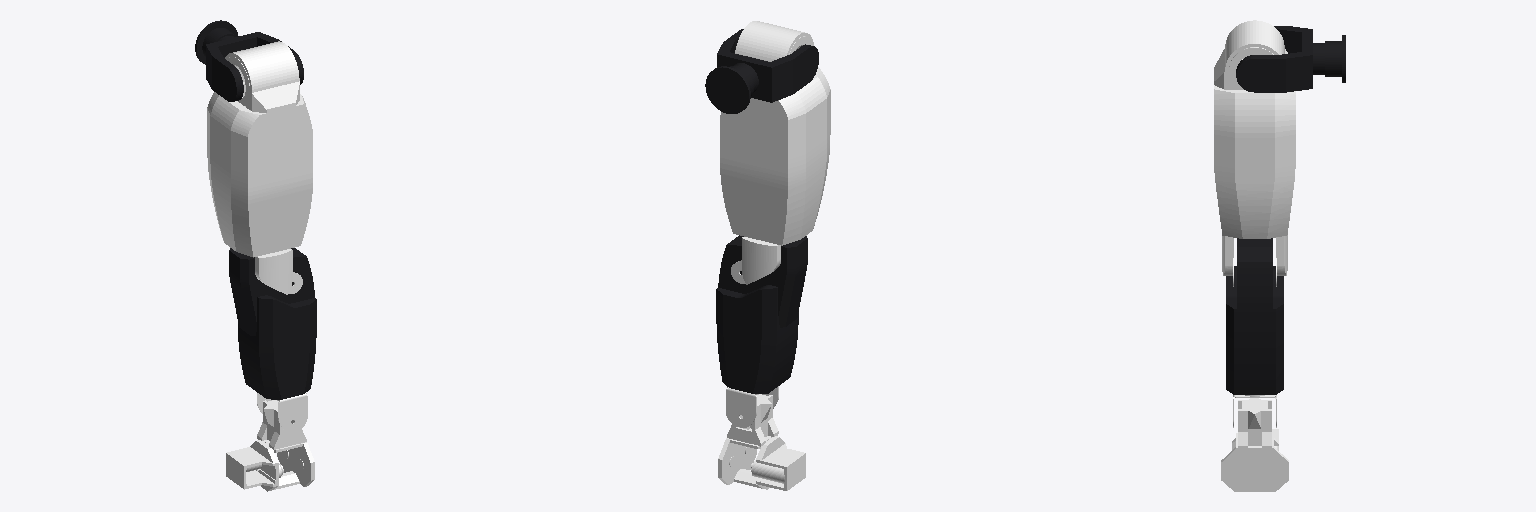
robot.urdf — origin:
<?xml version="1.0" ?>
<!-- =================================================================================== -->
<!-- |    This document was autogenerated by xacro from origin.urdf.xacro              | -->
<!-- |    EDITING THIS FILE BY HAND IS NOT RECOMMENDED                                 | -->
<!-- =================================================================================== -->
<robot name="origin">
  <material name="silver">
    <color rgba="0.700 0.700 0.700 1.000"/>
  </material>
  <material name="grey">
    <color rgba="0.5 0.5 0.5 1.000"/>
  </material>
  <material name="matte_black">
    <color rgba="0.1568 0.1568 0.1686 1.000"/>
  </material>
  <material name="shiny_white">
    <color rgba="1.0 1.0 1.0 1.0"/>
  </material>
  <link name="rviz_world"/>
  <joint name="right_shoulder_y" type="revolute">
    <origin rpy="0 0 0" xyz="0.0001 -0.1099 1.0243"/>
    <parent link="rviz_world"/>
    <child link="right_shoulder_link"/>
    <axis xyz="0.0 -1.0 0.0"/>
    <limit effort="27" lower="-3.141592653589793" upper="3.141592653589793" velocity="0.3"/>
  </joint>
  <link name="right_shoulder_link">
    <inertial>
      <origin rpy="0 0 0" xyz="-6.707197303895294e-05 -0.028863587907437732 6.661338147750939e-16"/>
      <mass value="0.5113716800487312"/>
      <inertia ixx="0.000704" ixy="-1e-06" ixz="-0.0" iyy="0.000542" iyz="-0.0" izz="0.001084"/>
    </inertial>
    <visual>
      <origin rpy="0 0 0" xyz="-0.0001 0.1099 -1.0243"/>
      <geometry>
        <mesh filename="package://origin_description/meshes/right_shoulder_link.stl" scale="0.001 0.001 0.001"/>
      </geometry>
      <material name="matte_black"/>
    </visual>
    <collision>
      <origin rpy="0 0 0" xyz="-0.0001 0.1099 -1.0243"/>
      <geometry>
        <mesh filename="package://origin_description/meshes/right_shoulder_link.stl" scale="0.001 0.001 0.001"/>
      </geometry>
    </collision>
  </link>
  <joint name="right_shoulder_x" type="revolute">
    <origin rpy="0 0 0" xyz="-0.0001 -0.0857 0.0"/>
    <parent link="right_shoulder_link"/>
    <child link="right_upper_arm_link"/>
    <limit effort="27" lower="0" upper="3.141592653589793" velocity="0.3"/>
    <axis xyz="-1.0 0.0 0.0"/>
  </joint>
  <link name="right_upper_arm_link">
    <inertial>
      <origin rpy="0 0 0" xyz="-0.00042720383197012465 -5.765147387259972e-09 -0.10194978394457499"/>
      <mass value="1.6884377602103624"/>
      <inertia ixx="0.009792" ixy="0.0" ixz="0.000221" iyy="0.010143" iyz="-0.0" izz="0.003468"/>
    </inertial>
    <visual>
      <origin rpy="0 0 0" xyz="0.0 0.1956 -1.0243"/>
      <geometry>
        <mesh filename="package://origin_description/meshes/right_upper_arm_link.stl" scale="0.001 0.001 0.001"/>
      </geometry>
      <material name="shiny_white"/>
    </visual>
    <collision>
      <origin rpy="0 0 0" xyz="0.0 0.1956 -1.0243"/>
      <geometry>
        <mesh filename="package://origin_description/meshes/right_upper_arm_link.stl" scale="0.001 0.001 0.001"/>
      </geometry>
    </collision>
  </link>
  <joint name="right_elbow_z" type="revolute">
    <origin rpy="0 0 0" xyz="-0.0001 0.0 -0.22392"/>
    <parent link="right_upper_arm_link"/>
    <child link="right_elbow_link"/>
    <limit effort="3" lower="-3.141592653589793" upper="3.141592653589793" velocity="1"/>
    <axis xyz="0.0 0.0 -1.0"/>
  </joint>
  <link name="right_elbow_link">
    <inertial>
      <origin rpy="0 0 0" xyz="0.0024366910375512828 -6.356026815979021e-15 -0.02403825817806282"/>
      <mass value="0.21096961211666773"/>
      <inertia ixx="0.000256" ixy="-0.0" ixz="1.4e-05" iyy="0.000104" iyz="0.0" izz="0.000224"/>
    </inertial>
    <visual>
      <origin rpy="0 0 0" xyz="0.0001 0.1956 -0.80038"/>
      <geometry>
        <mesh filename="package://origin_description/meshes/right_elbow_link.stl" scale="0.001 0.001 0.001"/>
      </geometry>
      <material name="shiny_white"/>
    </visual>
    <collision>
      <origin rpy="0 0 0" xyz="0.0001 0.1956 -0.80038"/>
      <geometry>
        <mesh filename="package://origin_description/meshes/right_elbow_link.stl" scale="0.001 0.001 0.001"/>
      </geometry>
    </collision>
  </link>
  <joint name="right_elbow_y" type="revolute">
    <origin rpy="0 0 0" xyz="0.030255 0.0 -0.056208"/>
    <parent link="right_elbow_link"/>
    <child link="right_forearm_link"/>
    <limit effort="3" lower="0" upper="2.0943951023931953" velocity="1"/>
    <axis xyz="0.0 -1.0 0.0"/>
  </joint>
  <link name="right_forearm_link">
    <inertial>
      <origin rpy="0 0 0" xyz="-0.011927462307960417 8.326672684688674e-17 -0.052718743037229676"/>
      <mass value="0.38687937067589206"/>
      <inertia ixx="0.001214" ixy="0.0" ixz="0.000107" iyy="0.001304" iyz="0.0" izz="0.000553"/>
    </inertial>
    <visual>
      <origin rpy="0 0 0" xyz="-0.030155 0.1956 -0.744172"/>
      <geometry>
        <mesh filename="package://origin_description/meshes/right_forearm_link.stl" scale="0.001 0.001 0.001"/>
      </geometry>
      <material name="matte_black"/>
    </visual>
    <collision>
      <origin rpy="0 0 0" xyz="-0.030155 0.1956 -0.744172"/>
      <geometry>
        <mesh filename="package://origin_description/meshes/right_forearm_link.stl" scale="0.001 0.001 0.001"/>
      </geometry>
    </collision>
  </link>
  <joint name="right_wrist_z" type="revolute">
    <origin rpy="0 0 0" xyz="0.0 -2e-05 -0.149472"/>
    <parent link="right_forearm_link"/>
    <child link="right_wrist_link"/>
    <limit effort="3" lower="-3.141592653589793" upper="3.141592653589793" velocity="1"/>
    <axis xyz="0.0 0.0 1.0"/>
  </joint>
  <link name="right_wrist_link">
    <inertial>
      <origin rpy="0 0 0" xyz="0.0002089247538572328 1.942890293094024e-15 -0.01200318430716818"/>
      <mass value="0.04301003425285144"/>
      <inertia ixx="2.3e-05" ixy="0.0" ixz="0.0" iyy="1.4e-05" iyz="0.0" izz="2e-05"/>
    </inertial>
    <visual>
      <origin rpy="0 0 0" xyz="-0.030155 0.19562 -0.5947"/>
      <geometry>
        <mesh filename="package://origin_description/meshes/right_wrist_link.stl" scale="0.001 0.001 0.001"/>
      </geometry>
      <material name="shiny_white"/>
    </visual>
    <collision>
      <origin rpy="0 0 0" xyz="-0.030155 0.19562 -0.5947"/>
      <geometry>
        <mesh filename="package://origin_description/meshes/right_wrist_link.stl" scale="0.001 0.001 0.001"/>
      </geometry>
    </collision>
  </link>
  <joint name="right_wrist_y" type="revolute">
    <origin rpy="0 0 0" xyz="0.0 0.0 -0.039"/>
    <parent link="right_wrist_link"/>
    <child link="right_hand_link"/>
    <limit effort="3" lower="-1.5707963267948966" upper="1.5707963267948966" velocity="1"/>
    <axis xyz="0.0 -1.0 0.0"/>
  </joint>
  <link name="right_hand_link">
    <inertial>
      <origin rpy="0 0 0" xyz="-0.01104767351317323 0.002715369411830093 -0.05225403748482538"/>
      <mass value="0.18001679014798885"/>
      <inertia ixx="0.000181" ixy="1.7e-05" ixz="-2.6e-05" iyy="0.000251" iyz="8e-06" izz="0.000164"/>
    </inertial>
    <visual>
      <origin rpy="0 0 0" xyz="-0.030155 0.19562 -0.5557"/>
      <geometry>
        <mesh filename="package://origin_description/meshes/right_hand_link.stl" scale="0.001 0.001 0.001"/>
      </geometry>
      <material name="shiny_white"/>
    </visual>
    <collision>
      <origin rpy="0 0 0" xyz="-0.030155 0.19562 -0.5557"/>
      <geometry>
        <mesh filename="package://origin_description/meshes/right_hand_link.stl" scale="0.001 0.001 0.001"/>
      </geometry>
    </collision>
  </link>
</robot>

--- Render facts (derived) ---
Views: 3 orthographic renders of the robot side by side, from view 1: azimuth 30°, elevation 25°; view 2: azimuth 150°, elevation 25°; view 3: azimuth 270°, elevation 25°.
Model origin with 7 links and 6 joints (6 revolute), rooted at rviz_world, posed every joint at zero.
Links seen in each view (by area): view 1: right_upper_arm_link, right_forearm_link, right_hand_link, right_shoulder_link, right_elbow_link, right_wrist_link; view 2: right_upper_arm_link, right_forearm_link, right_shoulder_link, right_hand_link, right_elbow_link, right_wrist_link; view 3: right_upper_arm_link, right_forearm_link, right_shoulder_link, right_hand_link, right_elbow_link.
Boxes of the visible links, box(x1,y1,x2,y2) form: right_upper_arm_link: box(207, 41, 312, 257); right_forearm_link: box(229, 248, 316, 399); right_hand_link: box(226, 400, 314, 491); right_shoulder_link: box(195, 20, 303, 101); right_elbow_link: box(255, 249, 302, 294); right_wrist_link: box(257, 393, 307, 432); right_upper_arm_link: box(720, 21, 830, 245); right_forearm_link: box(716, 235, 807, 393); right_shoulder_link: box(705, 29, 818, 113); right_hand_link: box(718, 394, 805, 490); right_elbow_link: box(731, 235, 806, 284); right_wrist_link: box(726, 386, 778, 427); right_upper_arm_link: box(1214, 20, 1295, 238); right_forearm_link: box(1226, 238, 1283, 394); right_shoulder_link: box(1236, 26, 1345, 92); right_hand_link: box(1221, 398, 1288, 491); right_elbow_link: box(1222, 235, 1287, 286).
Size in the robot's own frame: 0.1228 by 0.1617 by 0.5987 metres.
Meshes: 6 distinct files referenced, 6 mesh visuals loaded (6 binary STL).